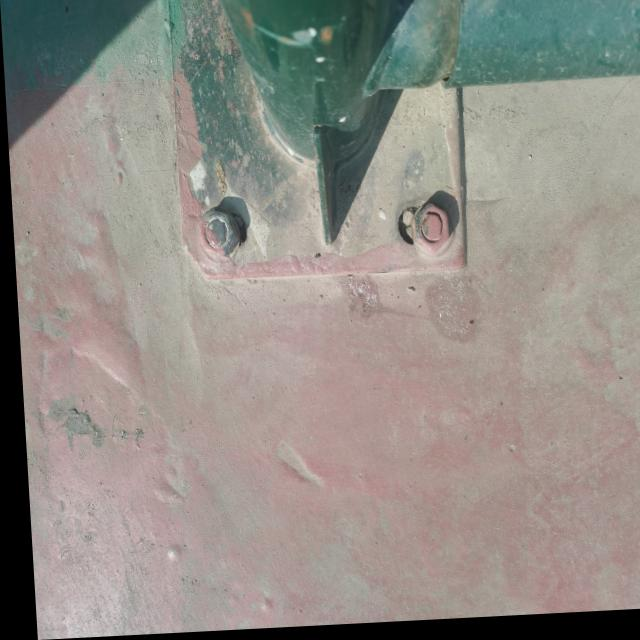Rusty bolt: (197, 211, 239, 265), (411, 208, 448, 258)
